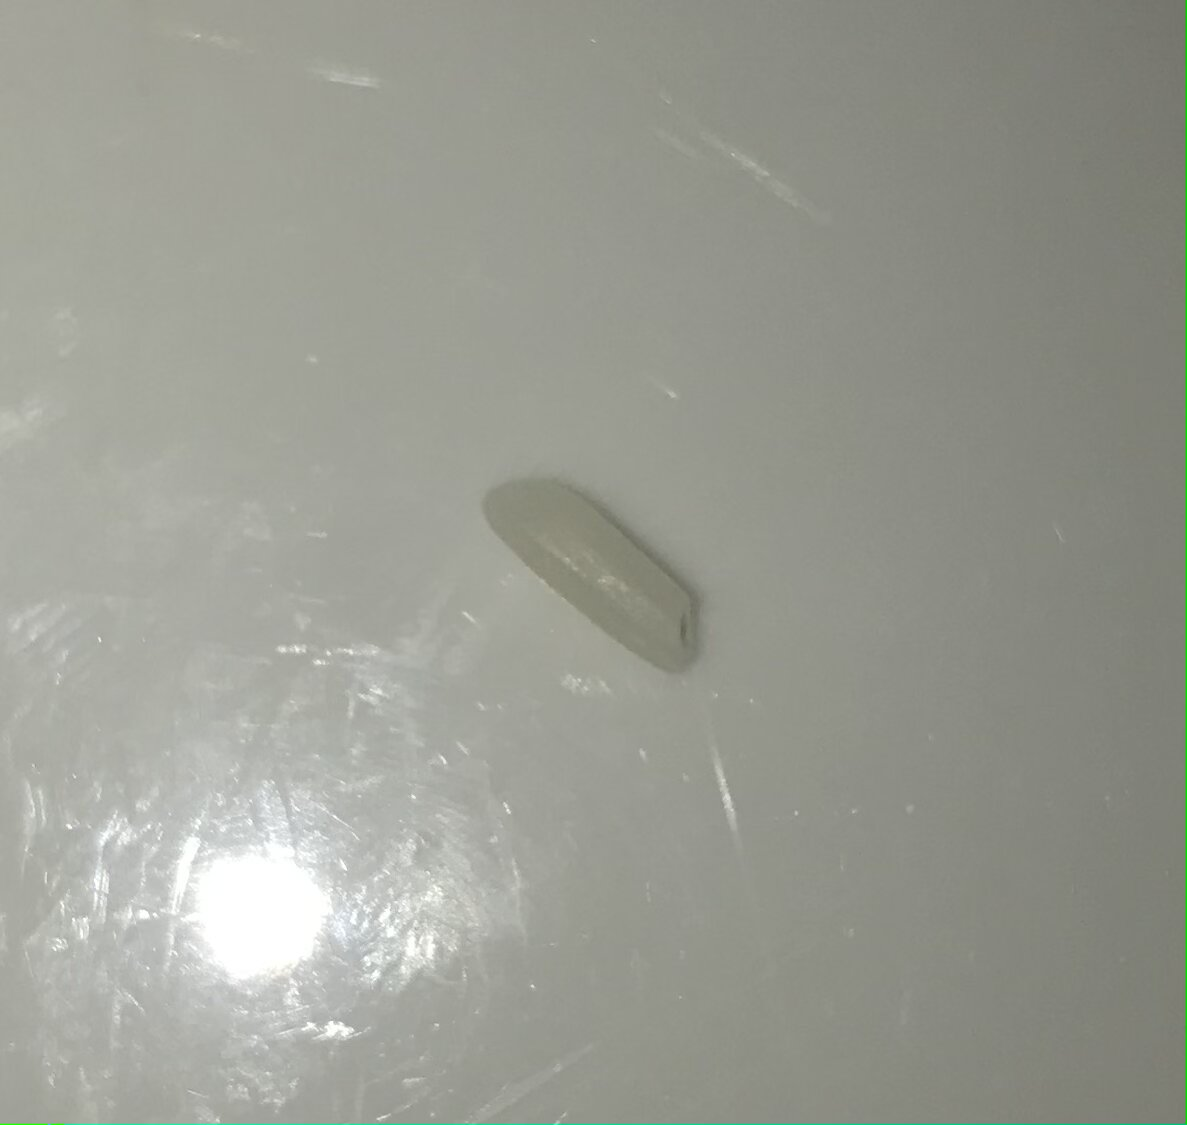Gao Lai Sua: (479, 460, 730, 690)
